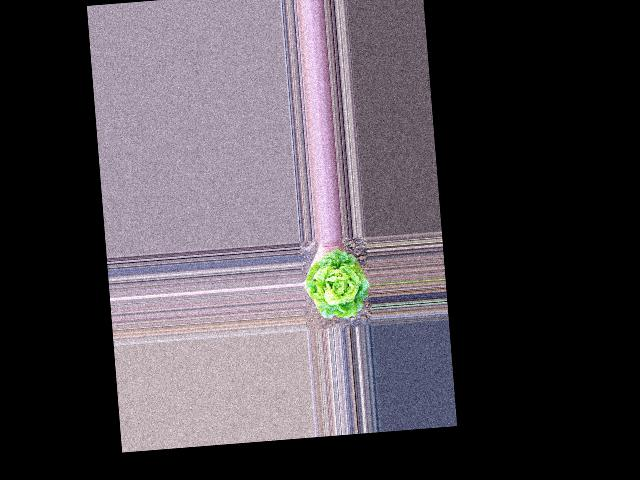lettuce: (303, 251, 370, 322)
